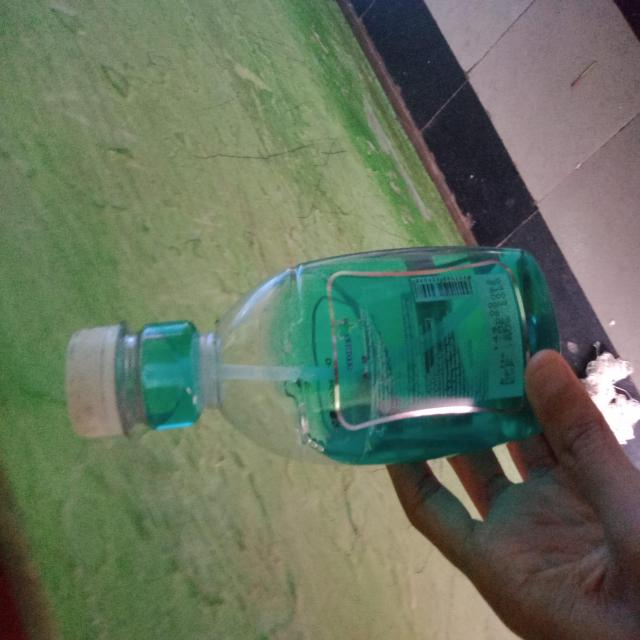plastic: (63, 243, 564, 467)
